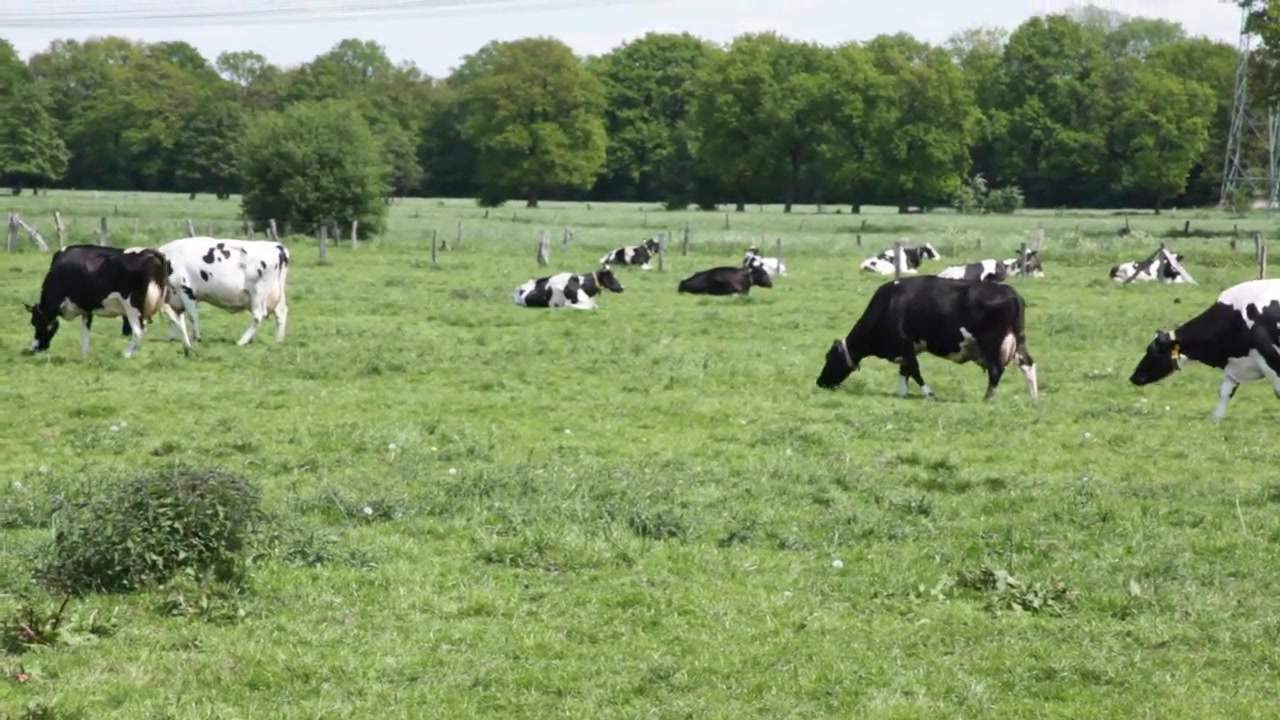cow: (817, 275, 1044, 409)
